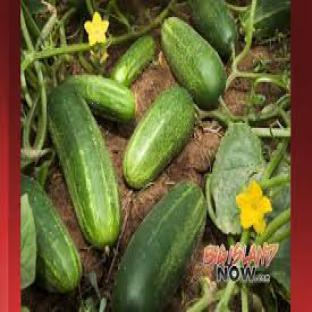Cucumber: (113, 183, 206, 311), (48, 86, 120, 248), (123, 87, 195, 189), (22, 176, 81, 293), (162, 18, 225, 109), (63, 76, 136, 122), (112, 36, 155, 86)
